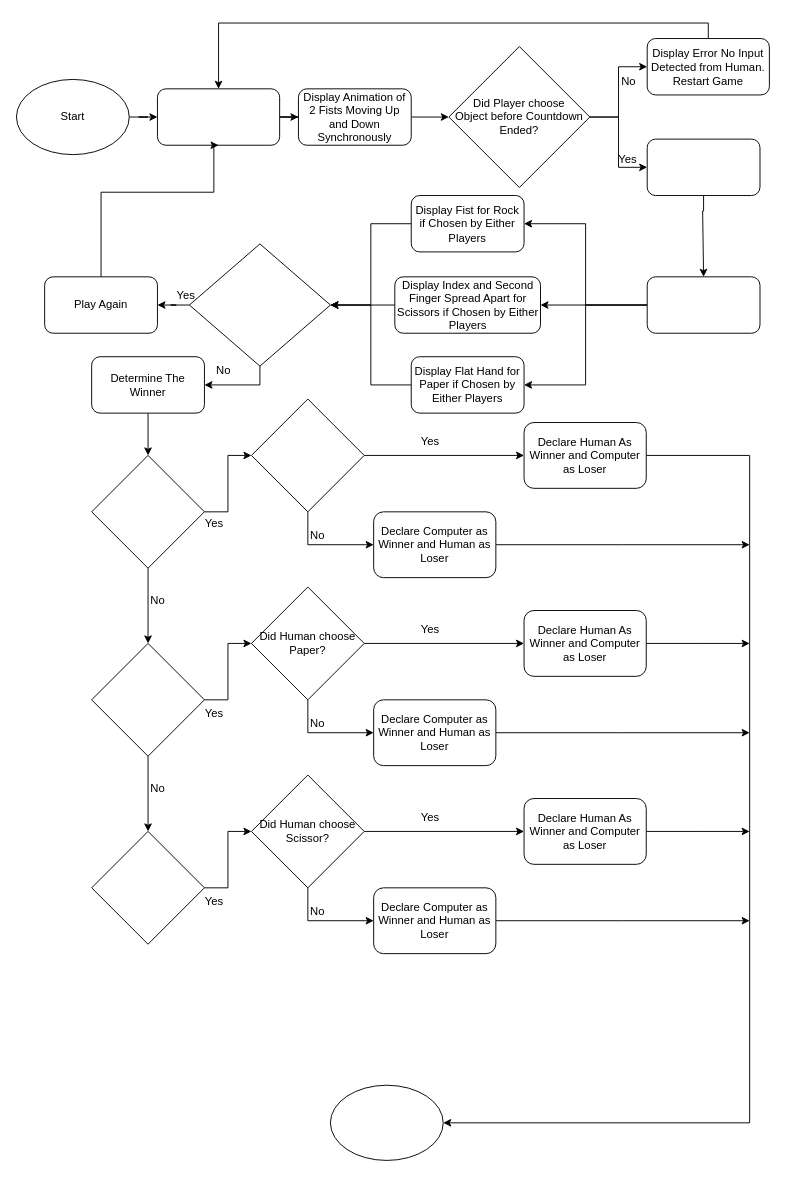
Image size: 786x1177. Some labels were removed from this diagram. Each missing label, with the centre of its shape:
Are Objects the Same?: (x=259, y=304)
Computer Generates Random Number Between 1 - 3 (rock-1 paper-2 scissors-3): (x=703, y=167)
Count "1, 2, 3 Go!" Reveal Both Object: (x=703, y=304)
Countdown 3 seconds Player Choose Object (rock, paper or scissor): (x=218, y=116)
Did Human choose Rock?: (x=307, y=455)
Exit: (x=386, y=1122)
Is it Paper vs Scissor?: (x=147, y=887)
Is it Rock vs Paper?: (x=147, y=699)
Is it Rock vs Scissor?: (x=147, y=511)
